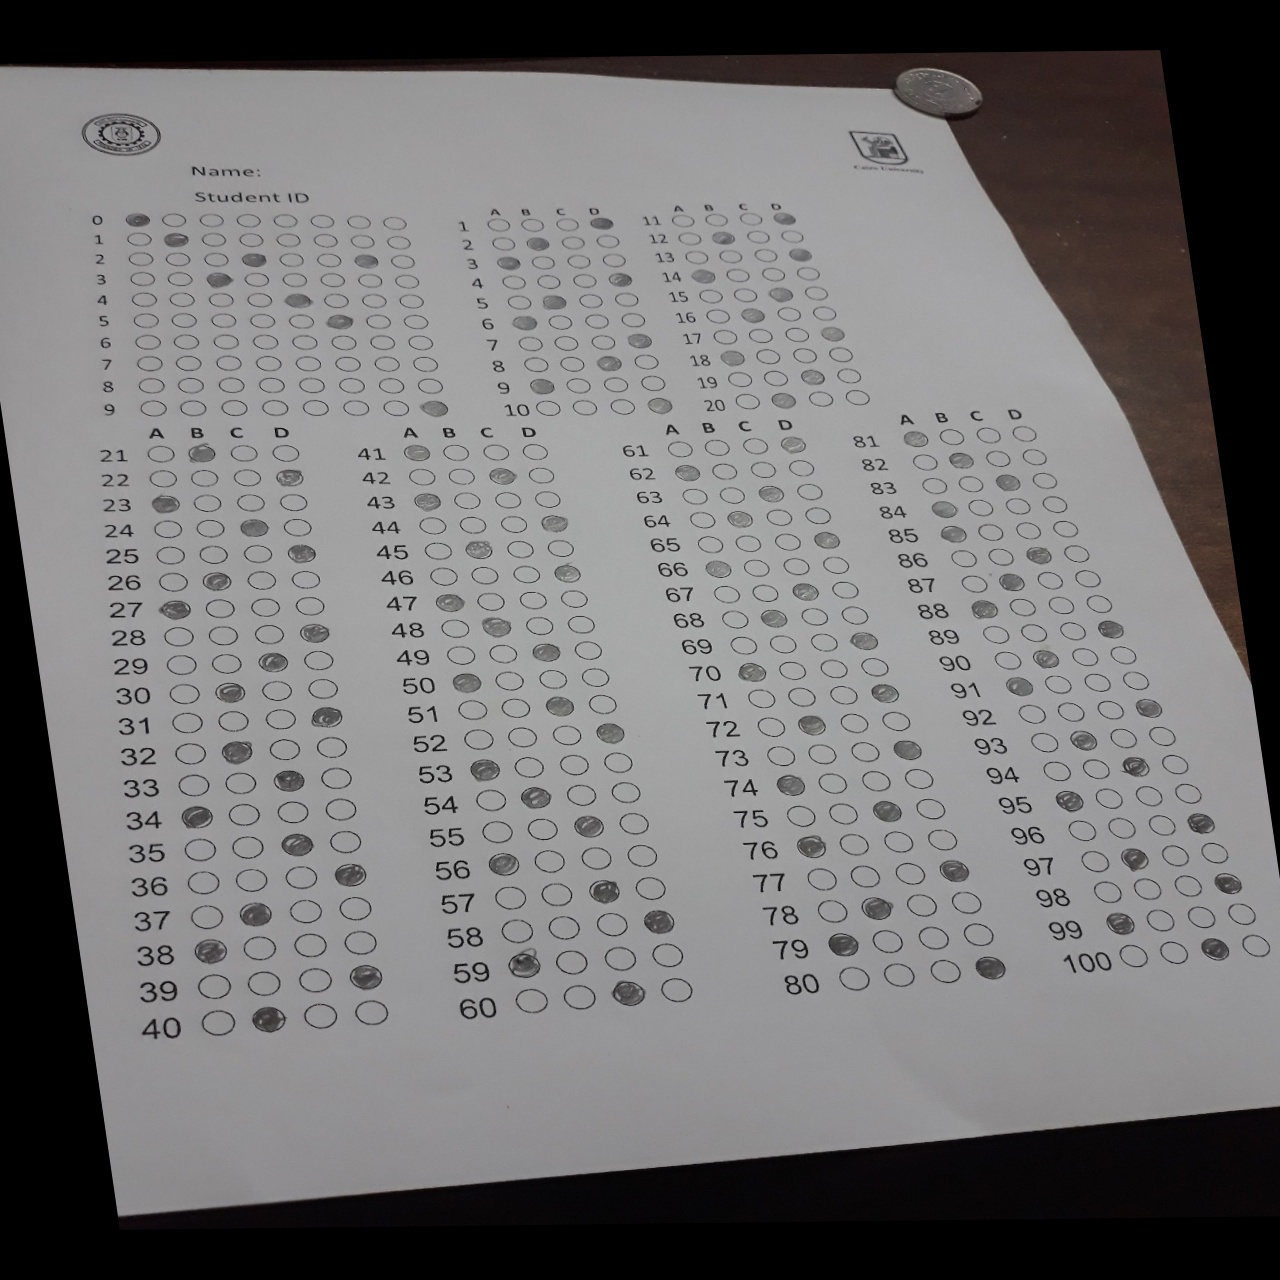not-c: (297, 998, 343, 1030), (226, 863, 272, 896), (195, 1006, 241, 1037), (183, 900, 230, 932), (241, 967, 290, 998), (237, 932, 282, 964), (286, 928, 332, 960), (348, 996, 395, 1027), (291, 964, 338, 994), (335, 926, 382, 956), (331, 892, 377, 922), (280, 894, 327, 925), (190, 969, 236, 1000), (181, 866, 226, 897), (309, 731, 350, 760), (170, 738, 212, 765), (159, 651, 202, 678), (200, 620, 243, 647), (274, 799, 315, 826), (173, 771, 215, 798), (248, 620, 290, 647), (226, 833, 268, 859), (263, 736, 305, 762), (204, 649, 246, 675), (181, 836, 222, 862), (324, 828, 365, 853), (222, 802, 263, 828), (218, 769, 259, 795), (316, 764, 358, 790), (166, 709, 207, 735), (211, 707, 252, 733), (259, 706, 300, 731), (256, 675, 297, 701), (302, 675, 343, 701), (162, 680, 203, 706), (297, 645, 338, 670), (319, 797, 361, 822), (856, 767, 896, 792), (280, 864, 321, 888), (632, 874, 670, 900), (926, 958, 965, 983), (880, 828, 919, 853), (825, 802, 864, 828), (741, 685, 779, 710), (890, 860, 930, 885), (813, 897, 851, 922), (949, 888, 987, 914), (751, 713, 789, 738), (592, 911, 631, 935), (658, 976, 696, 1001), (912, 925, 951, 949), (846, 738, 885, 763), (782, 685, 821, 709), (774, 656, 812, 681), (601, 945, 638, 971), (813, 772, 853, 796), (531, 847, 568, 872), (499, 918, 537, 942), (560, 983, 598, 1008), (835, 966, 872, 990), (878, 961, 915, 986), (846, 864, 884, 888), (922, 828, 960, 852), (762, 742, 799, 767), (879, 708, 917, 733), (870, 930, 908, 953), (833, 832, 872, 856), (911, 797, 949, 821), (899, 765, 938, 789), (835, 710, 873, 734), (856, 654, 894, 678), (815, 655, 853, 679), (784, 803, 821, 828), (578, 845, 615, 869), (491, 885, 529, 908), (537, 881, 574, 905), (546, 915, 584, 939), (553, 949, 591, 973), (511, 988, 549, 1012), (960, 921, 998, 945), (804, 866, 842, 890), (804, 742, 842, 765), (825, 682, 863, 706), (561, 783, 600, 805), (456, 697, 492, 721), (648, 942, 685, 966), (903, 892, 939, 915), (290, 594, 327, 617), (150, 543, 188, 565), (599, 750, 636, 772), (617, 811, 654, 833), (155, 570, 191, 592), (200, 597, 237, 619), (196, 543, 232, 565), (192, 516, 229, 538), (278, 515, 314, 537), (440, 440, 476, 462), (519, 440, 556, 462), (404, 465, 441, 488), (488, 486, 524, 509), (544, 537, 580, 559), (425, 565, 462, 587), (436, 617, 472, 639), (584, 692, 620, 714), (461, 728, 497, 750), (275, 491, 313, 512), (418, 540, 456, 561), (508, 563, 545, 584), (520, 615, 558, 636), (570, 639, 607, 660), (622, 844, 660, 865), (229, 467, 264, 489), (474, 590, 509, 612), (610, 779, 645, 802), (472, 788, 508, 810), (1116, 942, 1151, 965), (819, 552, 852, 576), (1129, 876, 1162, 899), (159, 625, 196, 646), (243, 568, 279, 590), (239, 542, 275, 563), (150, 519, 186, 540), (232, 492, 268, 513), (189, 492, 225, 513), (226, 442, 263, 463), (143, 441, 179, 462), (524, 464, 560, 485), (443, 465, 479, 486), (448, 490, 484, 511), (527, 488, 564, 509), (502, 538, 538, 559), (467, 564, 503, 585), (515, 588, 551, 610), (556, 588, 592, 610), (561, 614, 598, 635), (443, 644, 479, 665), (483, 642, 519, 663), (577, 665, 613, 686), (535, 668, 571, 689), (492, 669, 529, 690), (549, 724, 585, 745), (505, 726, 542, 747), (512, 756, 549, 777), (554, 753, 591, 774), (479, 821, 516, 842), (524, 817, 560, 838), (837, 604, 871, 626), (710, 581, 744, 604), (779, 554, 813, 577), (1156, 941, 1190, 964), (454, 515, 491, 535), (415, 515, 452, 535), (247, 595, 282, 617), (288, 567, 324, 588), (267, 441, 302, 462), (481, 440, 516, 461), (499, 697, 535, 719), (830, 577, 862, 600), (806, 629, 839, 652), (144, 467, 181, 486), (495, 515, 531, 535), (726, 634, 760, 655), (799, 604, 831, 626), (750, 580, 782, 602), (1065, 818, 1097, 840), (1146, 813, 1178, 836), (1197, 840, 1228, 863), (1185, 905, 1217, 927), (186, 467, 222, 486), (767, 633, 799, 654), (1006, 595, 1039, 617), (1105, 816, 1138, 837), (1171, 874, 1204, 896), (1158, 843, 1189, 865), (1239, 934, 1269, 956), (1017, 445, 1049, 467), (1092, 787, 1124, 808), (1080, 849, 1111, 870), (1143, 908, 1175, 930), (1226, 901, 1258, 922), (908, 451, 941, 471), (1039, 493, 1071, 513), (964, 497, 996, 517), (1013, 519, 1046, 539), (1060, 543, 1092, 563), (985, 547, 1017, 567), (1017, 622, 1050, 642), (978, 624, 1010, 644), (1092, 699, 1125, 719), (1107, 727, 1139, 747), (1132, 784, 1163, 805), (1090, 880, 1121, 901), (331, 353, 365, 372), (168, 332, 202, 350), (719, 610, 753, 628), (741, 557, 772, 577), (695, 533, 727, 553), (708, 461, 740, 481), (794, 481, 825, 501), (935, 425, 967, 445), (973, 424, 1005, 444), (975, 520, 1007, 540), (1034, 568, 1065, 588), (1073, 568, 1104, 588), (1082, 593, 1114, 613), (1070, 646, 1102, 666), (1108, 644, 1139, 663), (1055, 700, 1087, 720), (1146, 726, 1178, 745), (1080, 758, 1111, 778), (1171, 782, 1203, 802), (137, 399, 170, 417), (172, 353, 205, 372), (328, 332, 361, 350), (287, 332, 320, 350), (248, 331, 281, 349), (731, 533, 764, 552), (686, 510, 719, 529), (1046, 595, 1078, 614), (992, 651, 1024, 669), (1039, 761, 1071, 779), (785, 458, 816, 478), (1057, 620, 1088, 640), (1030, 731, 1061, 751), (259, 399, 293, 416), (173, 376, 207, 394), (132, 354, 166, 372), (299, 397, 331, 416), (213, 353, 245, 372), (404, 332, 436, 350), (771, 531, 803, 550), (803, 505, 835, 524), (745, 459, 777, 478), (1008, 424, 1040, 443), (982, 449, 1014, 468), (955, 474, 987, 492), (919, 475, 951, 493), (1029, 470, 1061, 489), (1000, 496, 1032, 515), (1048, 519, 1080, 538), (948, 549, 980, 567), (960, 573, 992, 592), (1119, 670, 1151, 689), (1082, 673, 1114, 692), (1016, 704, 1048, 723), (1159, 754, 1191, 772), (218, 399, 251, 416), (380, 397, 413, 415), (413, 376, 445, 394), (374, 376, 407, 394), (338, 375, 370, 393), (291, 354, 324, 372), (370, 354, 403, 372), (365, 333, 397, 350), (132, 332, 165, 349), (679, 486, 712, 504), (1042, 674, 1073, 693), (215, 376, 248, 393), (176, 399, 207, 416), (256, 376, 287, 394), (253, 354, 285, 372), (409, 354, 441, 372), (211, 332, 243, 349), (716, 485, 748, 503), (339, 399, 372, 415), (294, 376, 327, 393), (136, 376, 169, 393), (763, 508, 794, 525), (275, 251, 307, 267), (808, 305, 839, 321), (168, 311, 198, 327), (285, 313, 315, 329), (128, 270, 158, 286), (387, 252, 417, 268), (311, 231, 341, 247), (313, 252, 343, 268), (234, 230, 265, 246), (196, 211, 226, 227), (564, 252, 594, 268), (588, 334, 619, 350), (568, 399, 599, 415), (665, 440, 695, 456), (833, 366, 864, 382), (753, 347, 783, 363), (772, 305, 803, 321), (132, 312, 162, 328), (207, 312, 237, 328), (400, 313, 429, 329), (396, 292, 425, 308), (322, 292, 352, 308), (392, 273, 421, 290), (273, 231, 302, 247), (202, 251, 231, 267), (593, 232, 622, 248), (576, 292, 605, 308), (744, 327, 774, 343), (731, 286, 761, 302), (758, 265, 788, 281), (736, 210, 765, 226), (359, 293, 389, 308), (244, 291, 274, 306), (164, 270, 195, 285), (279, 271, 309, 286), (316, 271, 347, 286), (384, 233, 415, 248), (484, 216, 515, 231), (517, 216, 547, 231), (598, 252, 628, 267), (568, 273, 599, 288), (612, 291, 642, 306), (556, 356, 586, 372), (731, 393, 762, 408), (842, 389, 872, 404), (801, 285, 831, 300), (700, 211, 730, 226), (667, 212, 697, 227), (207, 291, 236, 307), (683, 248, 712, 265), (246, 312, 275, 327), (363, 314, 393, 329), (129, 291, 158, 306), (241, 271, 271, 286), (355, 273, 384, 288), (381, 215, 410, 230), (347, 233, 376, 248), (306, 213, 335, 229), (199, 231, 229, 246), (162, 250, 191, 265), (159, 211, 189, 226), (125, 251, 155, 266), (527, 253, 557, 268), (498, 274, 527, 290), (533, 273, 563, 288), (546, 314, 576, 329), (581, 313, 611, 328), (551, 335, 580, 350), (520, 356, 550, 372), (631, 353, 660, 368), (640, 375, 669, 390), (533, 399, 563, 414), (828, 346, 857, 361), (791, 347, 821, 362), (782, 326, 811, 341), (703, 308, 733, 324), (792, 265, 822, 280), (675, 230, 704, 245), (617, 312, 648, 326), (166, 291, 195, 306), (234, 211, 263, 226), (125, 231, 154, 246), (552, 217, 583, 231), (560, 234, 588, 250), (504, 295, 535, 309), (515, 336, 545, 350), (602, 376, 631, 392), (564, 377, 594, 392), (740, 438, 770, 452), (751, 247, 779, 263), (775, 229, 805, 243), (742, 229, 772, 243), (271, 213, 300, 227), (490, 236, 519, 250), (724, 372, 754, 386), (760, 370, 789, 384), (805, 392, 835, 406), (710, 329, 740, 343), (696, 288, 726, 302), (723, 267, 753, 281), (716, 248, 745, 263), (343, 215, 372, 229), (610, 397, 638, 411), (703, 440, 731, 454)
taken-c: (973, 952, 1012, 983), (1102, 910, 1141, 941), (1210, 869, 1248, 900), (1194, 934, 1233, 965), (1116, 846, 1155, 877), (332, 862, 369, 888), (516, 782, 554, 808), (270, 768, 308, 794), (346, 964, 384, 989), (826, 930, 863, 956), (858, 894, 896, 920), (640, 908, 678, 934), (504, 951, 542, 976), (585, 877, 622, 903), (592, 719, 629, 744), (549, 560, 586, 586), (218, 738, 256, 764), (179, 804, 217, 830), (248, 1005, 286, 1030), (1184, 811, 1218, 839), (1053, 787, 1087, 815), (1119, 755, 1153, 783), (1133, 695, 1167, 723), (1029, 646, 1063, 674), (967, 597, 1001, 625), (994, 568, 1028, 597), (1022, 542, 1056, 570), (935, 520, 969, 549), (278, 833, 316, 858), (237, 901, 275, 926), (1002, 673, 1037, 700), (1094, 617, 1129, 644), (610, 979, 646, 1005), (465, 756, 502, 782), (544, 693, 580, 719), (568, 812, 606, 837), (483, 851, 520, 876), (448, 670, 485, 695), (477, 613, 515, 638), (527, 639, 565, 663), (191, 939, 229, 964), (1067, 729, 1101, 756), (930, 497, 964, 524), (990, 469, 1024, 496), (900, 425, 935, 451), (944, 449, 979, 474), (459, 539, 496, 561), (535, 512, 571, 535), (484, 463, 520, 485), (409, 489, 445, 511), (433, 591, 468, 613), (268, 465, 305, 486), (794, 835, 828, 857), (306, 704, 341, 726), (256, 651, 291, 672), (774, 774, 806, 796), (938, 859, 971, 881), (157, 600, 193, 620), (869, 799, 903, 821), (399, 442, 434, 462), (282, 542, 318, 561), (236, 518, 271, 538), (148, 493, 183, 513), (182, 442, 217, 462), (200, 570, 236, 590), (295, 622, 331, 642), (213, 681, 248, 701), (809, 529, 840, 549), (788, 583, 819, 601), (204, 268, 233, 288), (755, 484, 785, 503), (722, 509, 753, 527), (670, 463, 701, 482), (796, 714, 826, 733), (509, 312, 539, 331), (120, 209, 150, 227), (891, 740, 922, 757), (847, 629, 877, 648), (538, 292, 567, 311), (605, 270, 634, 288), (325, 312, 354, 331), (282, 291, 312, 309), (159, 230, 189, 248), (716, 348, 747, 366), (778, 436, 809, 454), (701, 560, 731, 578), (869, 683, 899, 701), (520, 234, 551, 252), (757, 608, 787, 626), (738, 662, 768, 680), (644, 396, 673, 414), (624, 332, 653, 349), (595, 354, 625, 372), (587, 212, 617, 230), (420, 399, 449, 416), (527, 377, 556, 395), (493, 253, 522, 271), (240, 252, 268, 270), (352, 252, 381, 268), (738, 307, 767, 321), (689, 268, 717, 282), (765, 287, 794, 301), (818, 326, 846, 340), (797, 370, 825, 384), (769, 394, 797, 408), (787, 247, 812, 261), (772, 211, 797, 225), (710, 229, 735, 243)
